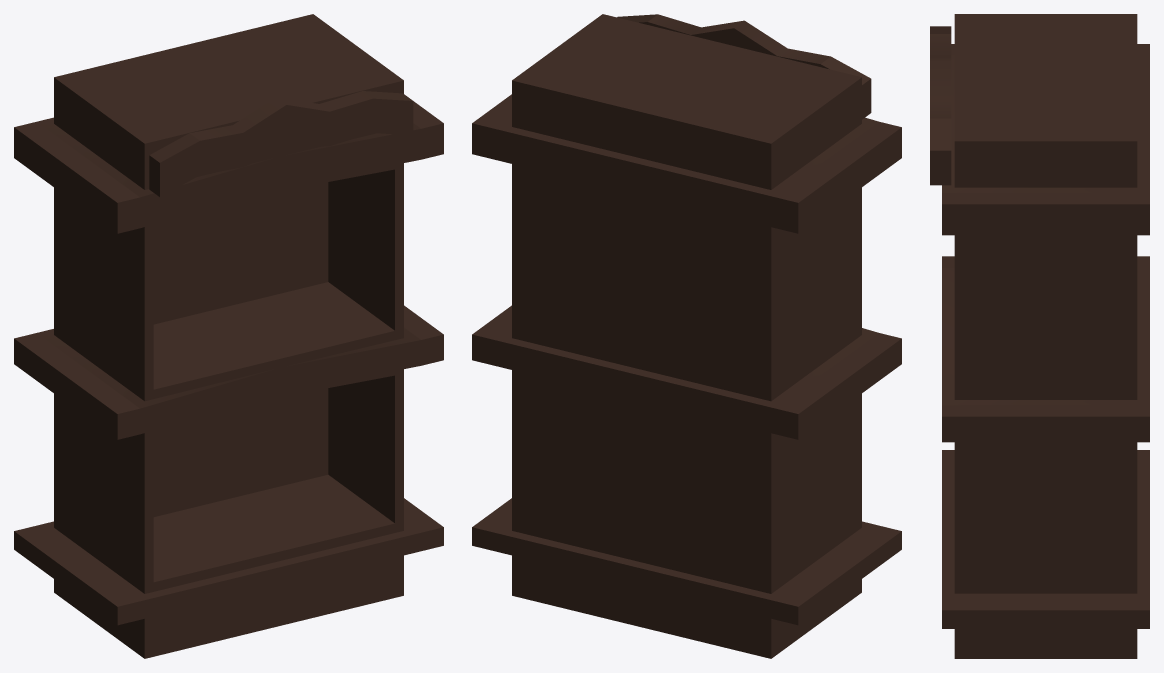
Rendered from Shelf.fbx.
The picture shows the model from 3 angles, left to right: view 1: azimuth 30°, elevation 25°; view 2: azimuth 150°, elevation 25°; view 3: azimuth 270°, elevation 25°; orthographic projection.
Visible parts, largest first — view 1: Shelf; view 2: Shelf; view 3: Shelf.
Part boxes in pixels (x1,y1,x2,y2): Shelf: (14, 14, 443, 658); Shelf: (472, 14, 901, 658); Shelf: (930, 14, 1149, 658).
Size of the model in its own units: 13.46 by 20.95 by 7.81.
